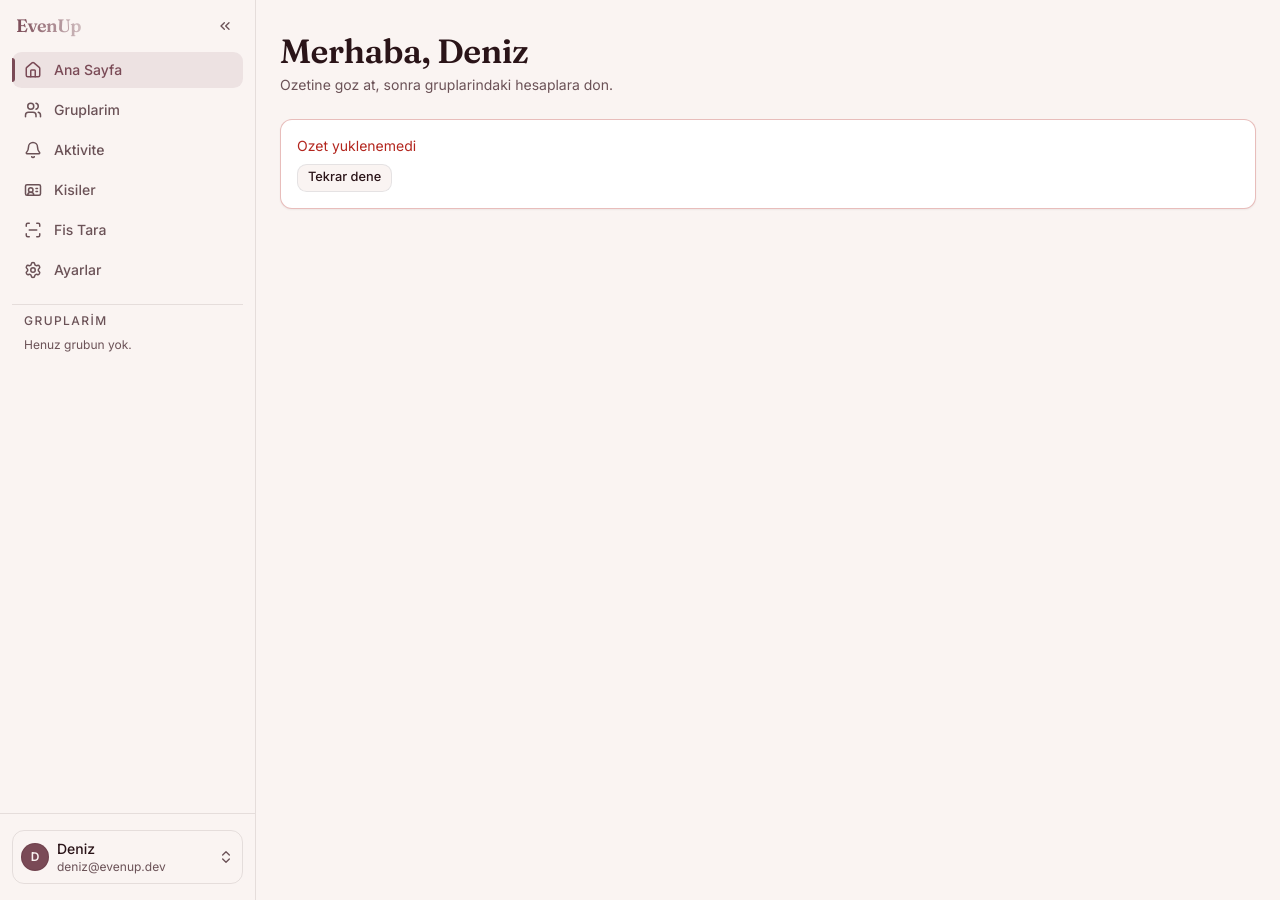
Test case: Home — ozet okunamadiginda › tekrar dene ucu yeniden cagirir
The image size is (1280, 900).
Expected: the heading "Merhaba, Deniz" is shown, [280,30,528,72]
Expected: the message "Ozet yuklenemedi Tekrar dene" is shown, [280,119,1256,209]
Step 1. Click the button "Tekrar dene" → (345, 178), box [297,164,392,192]
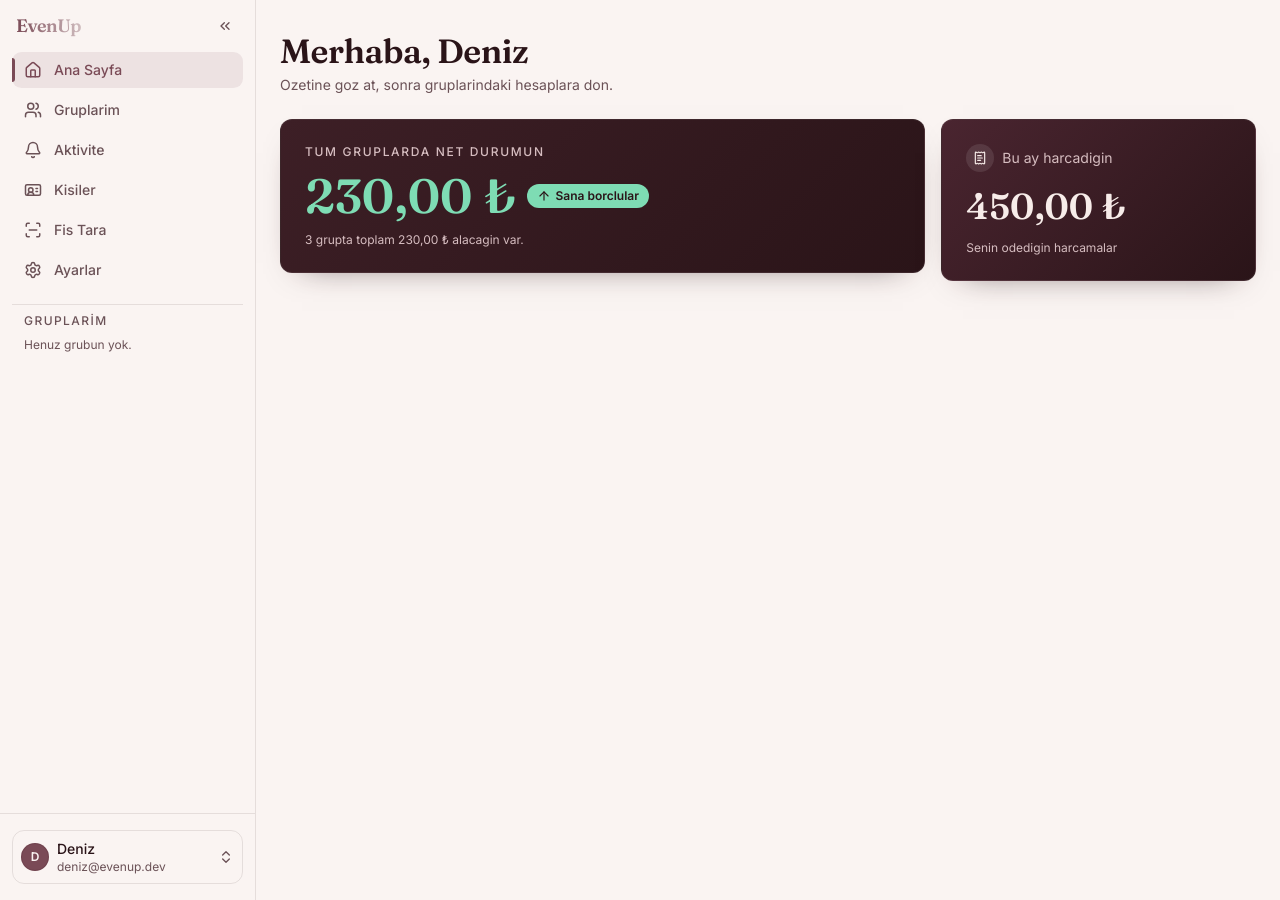
Expected: the text "230,00 ₺" is shown, [305,172,516,220]
